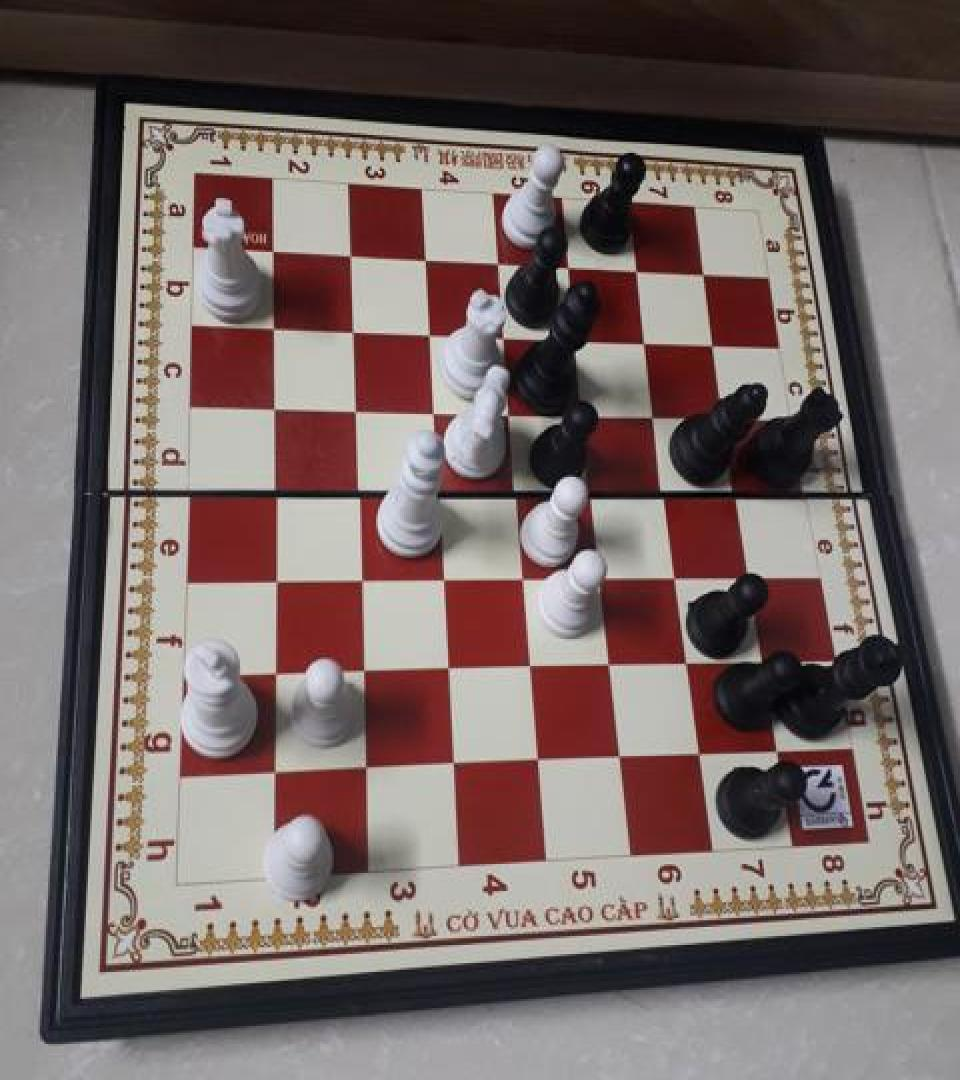xcorner: (691, 256, 719, 288), (623, 253, 651, 285), (482, 246, 510, 278), (333, 238, 361, 270), (255, 234, 283, 266), (701, 327, 729, 359), (632, 324, 660, 356), (488, 318, 516, 350), (413, 316, 441, 348), (256, 309, 284, 341), (713, 400, 741, 432), (642, 398, 670, 430), (569, 397, 597, 429), (338, 391, 366, 423), (256, 389, 284, 421), (725, 478, 753, 510), (652, 477, 680, 509), (737, 559, 765, 591), (663, 559, 691, 591), (587, 560, 615, 592), (509, 560, 537, 592), (428, 561, 456, 593), (344, 561, 372, 593), (258, 562, 286, 594), (750, 643, 778, 675), (597, 648, 625, 680), (516, 650, 544, 682), (433, 651, 461, 683), (764, 733, 792, 765), (607, 740, 635, 772), (439, 748, 467, 780), (351, 751, 379, 783), (260, 756, 288, 788), (553, 250, 581, 281), (408, 242, 436, 273), (561, 322, 589, 353), (335, 313, 363, 344), (494, 395, 522, 426), (417, 394, 445, 425), (578, 476, 606, 507), (501, 476, 529, 507), (422, 475, 450, 506), (341, 475, 369, 506), (257, 474, 285, 505), (675, 646, 703, 677), (347, 654, 375, 685), (259, 656, 287, 687), (687, 737, 715, 768), (524, 744, 552, 775)
